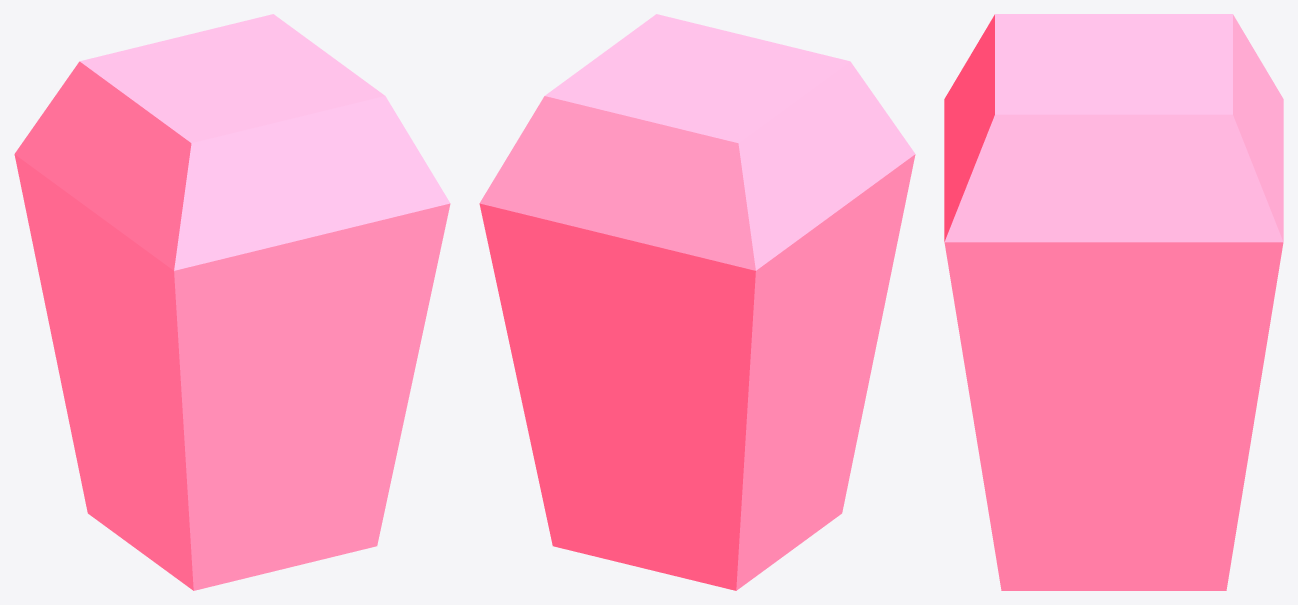
The model's file is creep.glb.
The picture shows the model from 3 angles, left to right: view 1: azimuth 30°, elevation 25°; view 2: azimuth 150°, elevation 25°; view 3: azimuth 270°, elevation 25°; orthographic projection. The views are drawn at different scales.
Parts seen in each view (by area): view 1: Cube; view 2: Cube; view 3: Cube.
Boxes of the visible parts, x1,y1,x2,y2 form: Cube: (14,14,450,590); Cube: (479,14,915,590); Cube: (944,14,1283,590).
Size of the model in its own units: 0.9744 by 1.52 by 0.9744.
